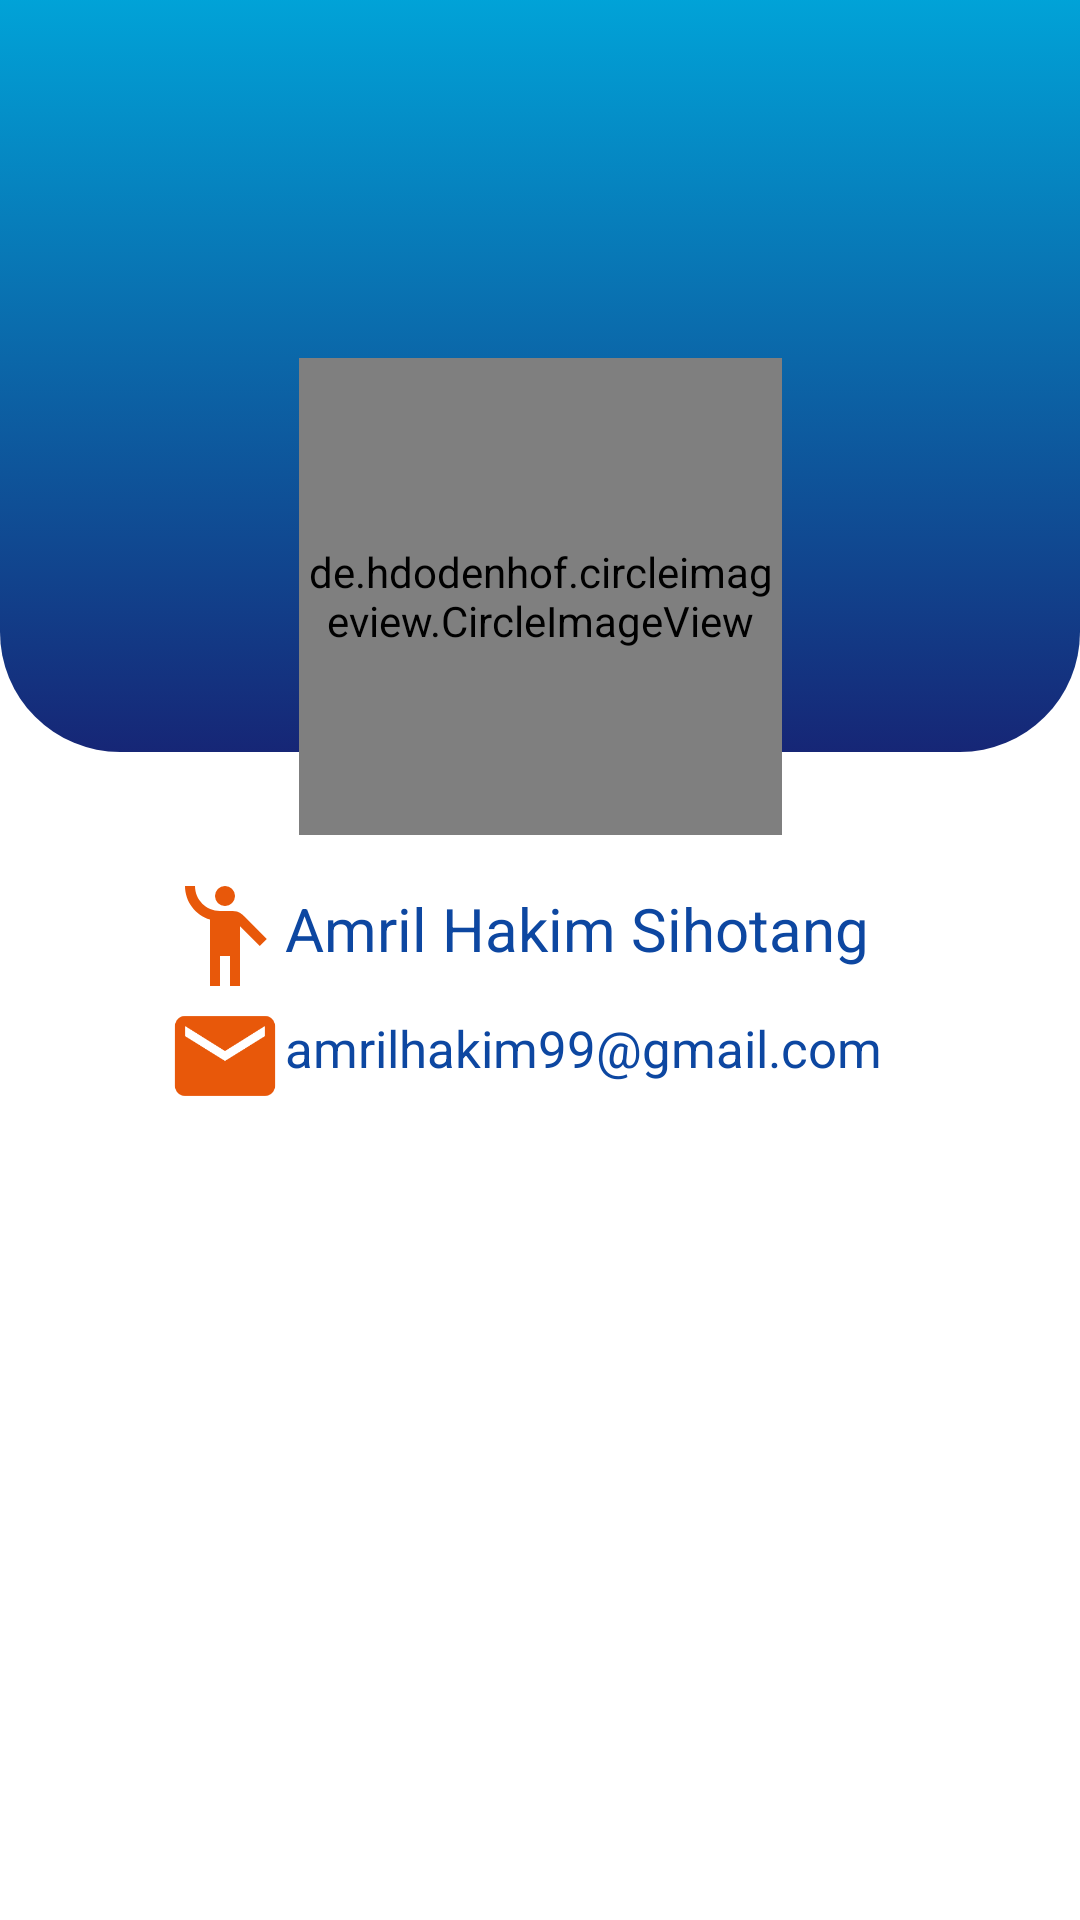

Named icons in this screenshot (1080×1920) and their bounding boxes, Rect(x1, y1, x2, y2):
email: Rect(174, 1016, 276, 1096)
emoji people: Rect(185, 886, 267, 986)
